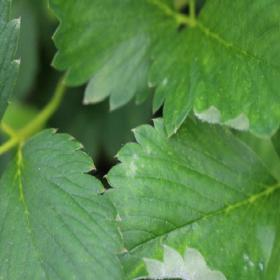Powdery Mildew Leaf: (101, 110, 279, 279), (146, 0, 279, 139)
